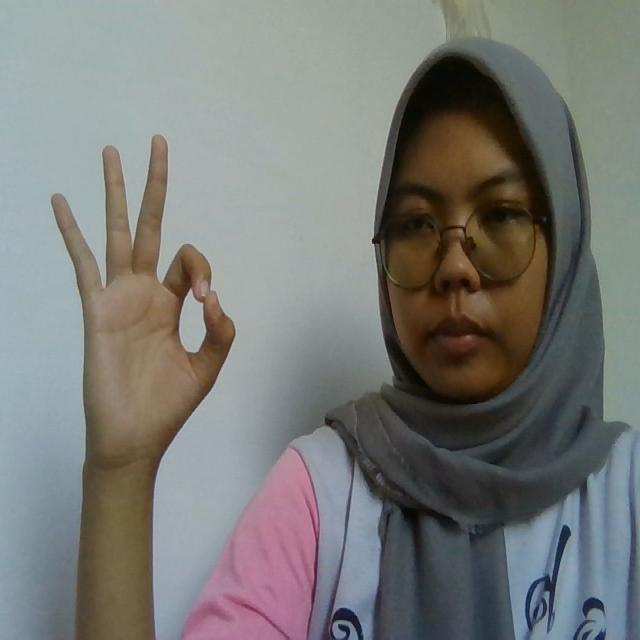F: (51, 133, 237, 461)
